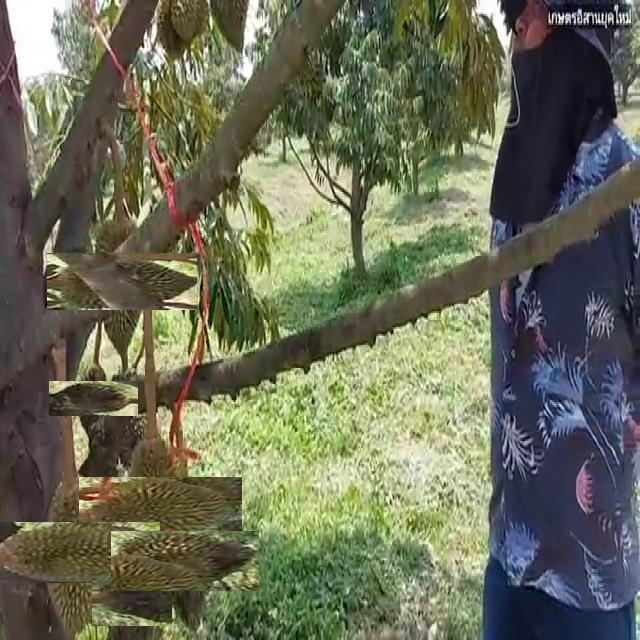durian: (16, 494, 133, 611), (103, 452, 218, 565), (133, 509, 238, 613), (70, 229, 174, 333), (98, 564, 166, 632), (62, 368, 125, 430)
